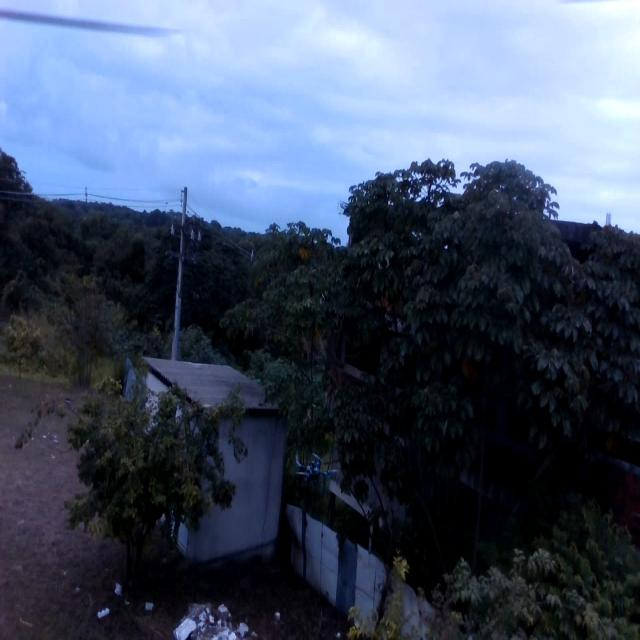-uav-: (286, 442, 348, 509)
